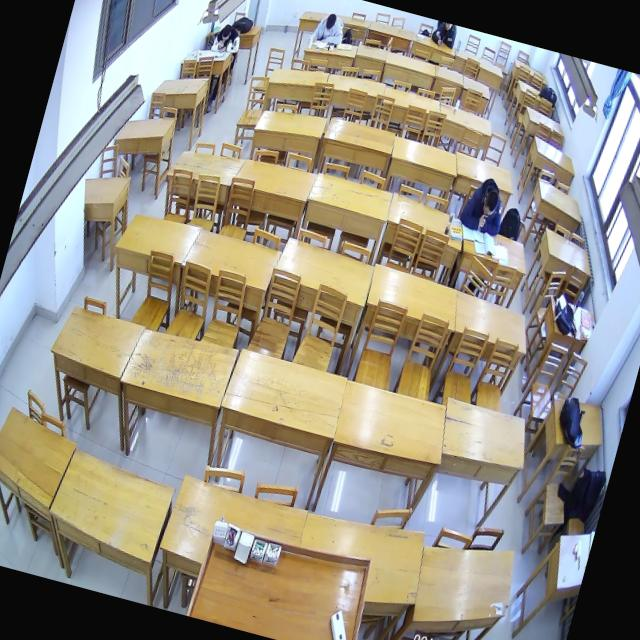bow: (456, 172, 512, 239), (311, 10, 348, 50), (209, 19, 244, 58)
down: (478, 187, 501, 218), (323, 12, 338, 34), (220, 22, 232, 42)
